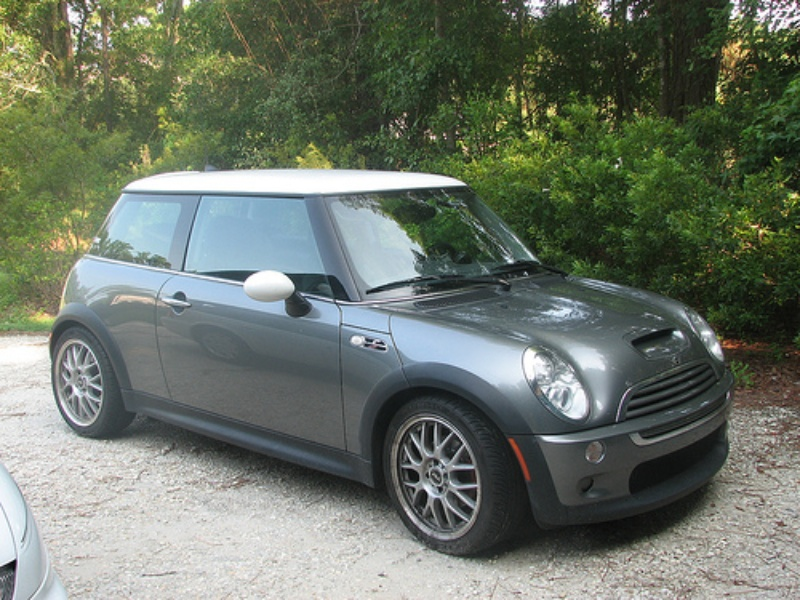car: (50, 170, 737, 553)
